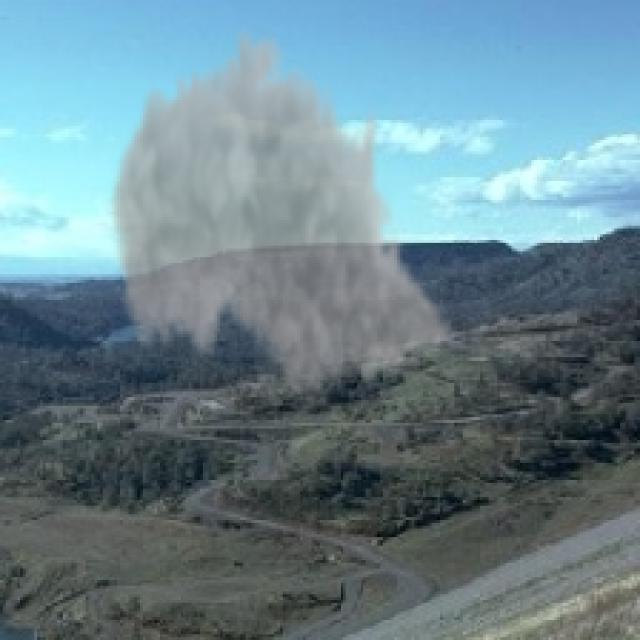smoke: (106, 20, 457, 411)
